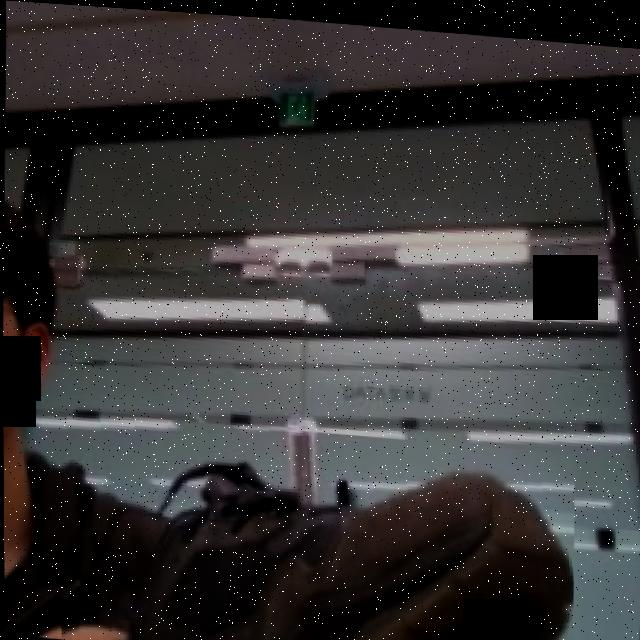shoe: (43, 408, 575, 640)
